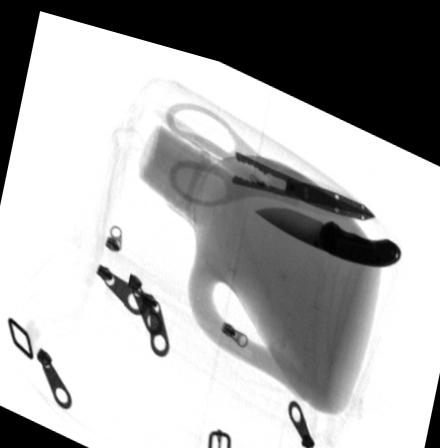Knife: (252, 190, 399, 247)
Scissors: (162, 91, 372, 200)
